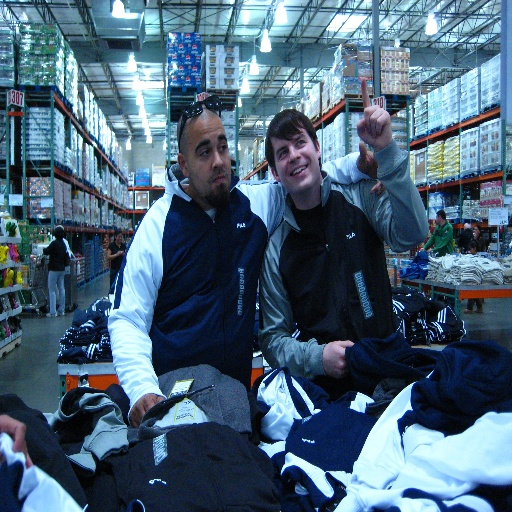hand: (355, 94, 396, 150), (0, 413, 35, 469), (320, 337, 357, 385), (357, 140, 384, 197), (128, 392, 165, 430)
